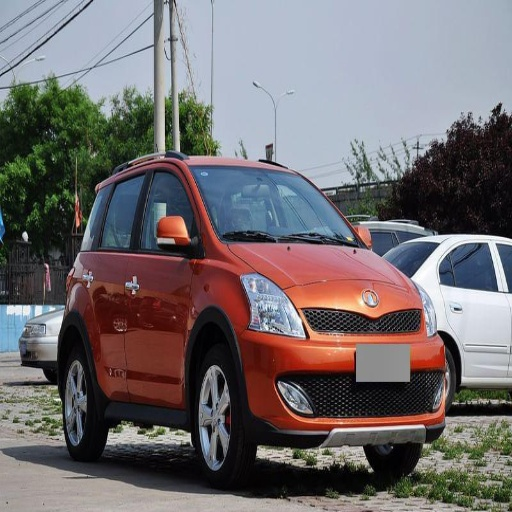front_bumper: (239, 307, 425, 442)
front_right_door: (126, 162, 202, 401)
front_right_light: (241, 274, 308, 339)
